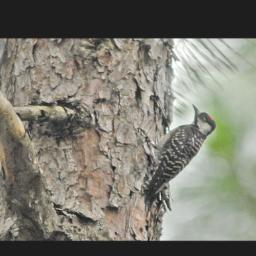Woodpecker: (140, 100, 216, 207)
